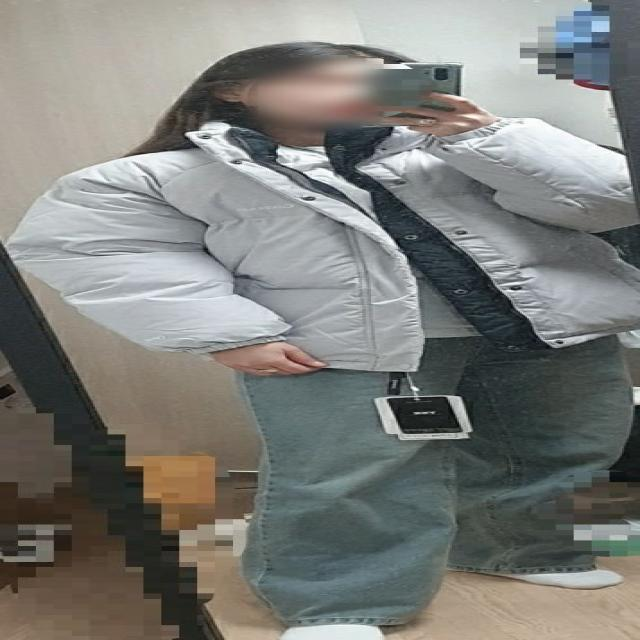denimpants: (247, 328, 640, 627)
padding: (0, 115, 640, 374)
